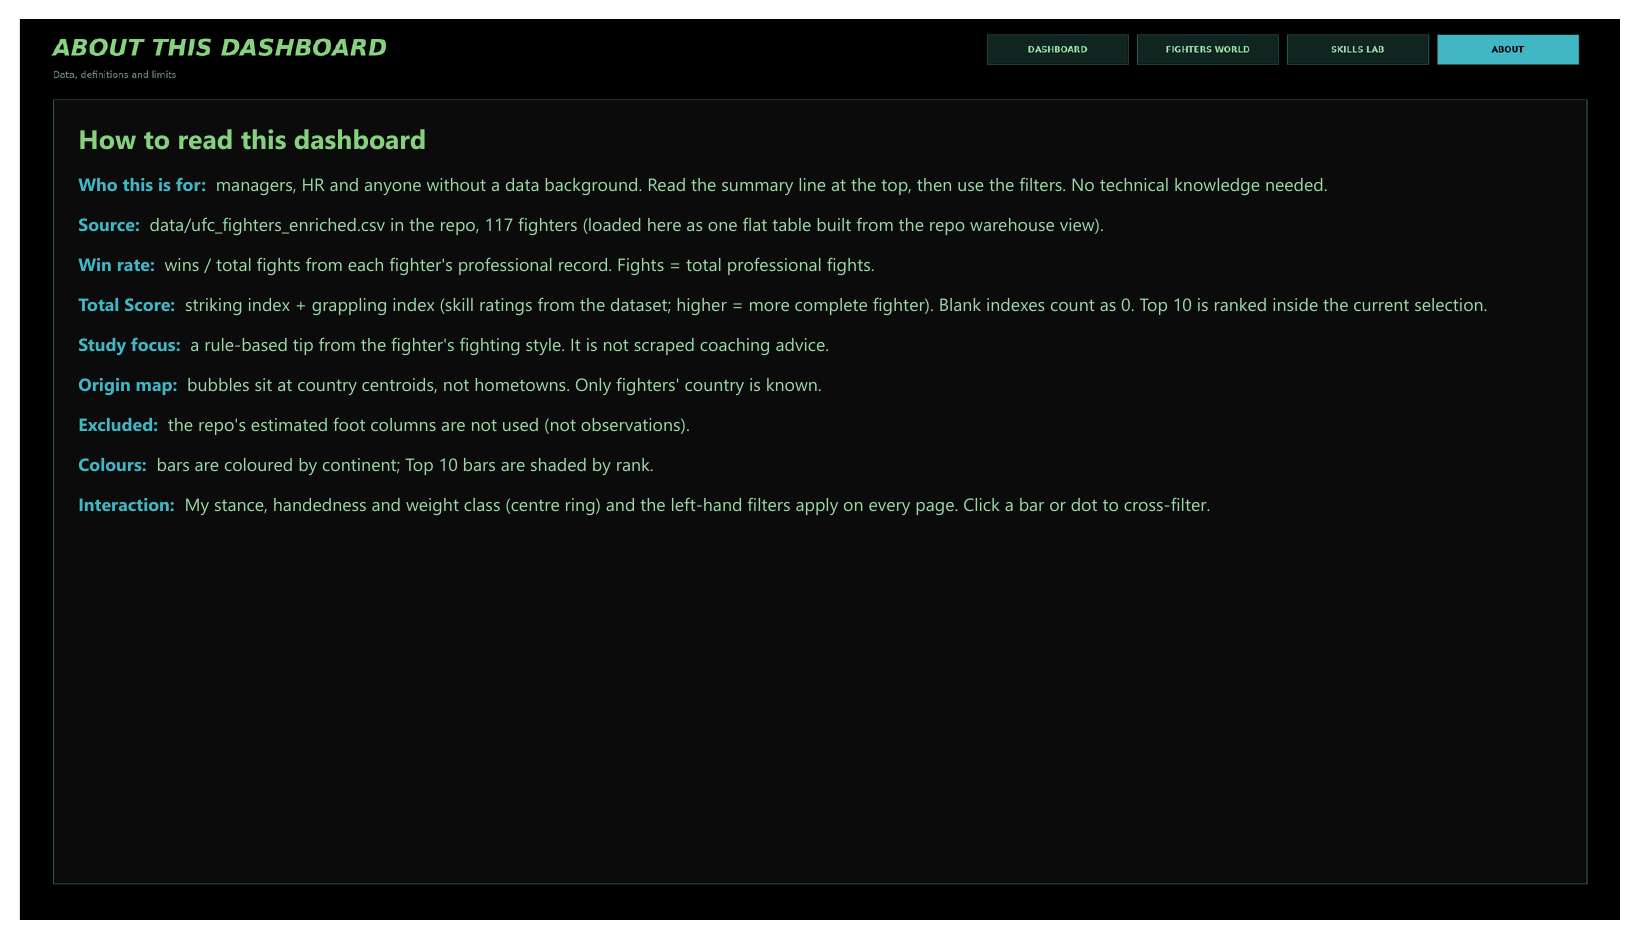

What the dashboard file says about the page in this screenshot:
{"tool":"powerbi","page":{"name":"About","canvas":[1920,1080],"ordinal":3},"visuals":[{"type":"textbox","box":[70,120,1780,880],"z":1590},{"type":"actionButton","box":[1160,18,170,36],"z":9059},{"type":"actionButton","box":[1340,18,170,36],"z":9060},{"type":"actionButton","box":[1520,18,170,36],"z":9061},{"type":"actionButton","box":[1700,18,170,36],"z":9062}]}

Visuals, with their boxes in screenshot pixels (x1, y1, x2, y2), scaled from the page's 1920x1080 canvas onto the 1640x940 screenshot:
textbox: bbox(60, 104, 1580, 870)
actionButton: bbox(991, 16, 1136, 47)
actionButton: bbox(1145, 16, 1290, 47)
actionButton: bbox(1298, 16, 1444, 47)
actionButton: bbox(1452, 16, 1597, 47)
